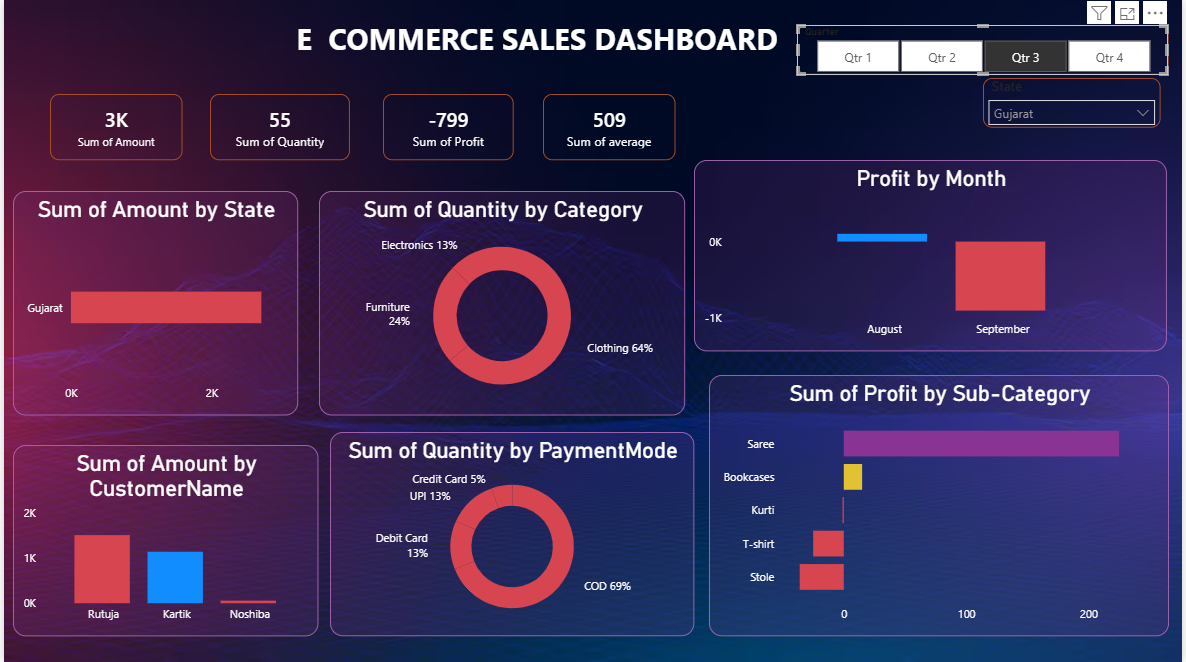

The dashboard page shown, as its layout file describes it:
{"tool":"powerbi","page":{"name":"Page 1","canvas":[1280,720],"ordinal":0},"visuals":[{"type":"textbox","box":[313.2,14.6,604,56.4],"z":0},{"type":"columnChart","title":"Profit by Month","fields":{"Category":["Orders.Order Date.Variation.Date Hierarchy.Month"],"Y":["Sum(Details.Profit)"]},"box":[750,174,514,208],"z":1000},{"type":"barChart","fields":{"Y":["Sum(Details.Profit)"],"Category":["Details.Sub-Category"]},"box":[766,408,500,284],"z":2000},{"type":"donutChart","fields":{"Y":["Sum(Details.Quantity)"],"Category":["Details.Category"]},"box":[342,208,398,244],"z":3000},{"type":"donutChart","fields":{"Y":["Sum(Details.Quantity)"],"Category":["Details.PaymentMode"]},"box":[354,470,396,222],"z":4000},{"type":"cardVisual","fields":{"Data":["Sum(Details.Amount)"]},"box":[50,102,144,72],"z":5000},{"type":"cardVisual","fields":{"Data":["Sum(Details.average)"]},"box":[586,102,144,72],"z":6000},{"type":"cardVisual","fields":{"Data":["Sum(Details.Profit)"]},"box":[412,102,142,72],"z":7000},{"type":"cardVisual","fields":{"Data":["Sum(Details.Quantity)"]},"box":[224,102,152,72],"z":8000},{"type":"barChart","fields":{"Y":["Sum(Details.Amount)"],"Category":["Orders.State"]},"box":[10,208,310,244],"z":9000},{"type":"columnChart","fields":{"Category":["Orders.CustomerName"],"Y":["Sum(Details.Amount)"]},"box":[10,484,332,208],"z":10000},{"type":"slicer","fields":{"Values":["Orders.Order Date.Variation.Date Hierarchy.Quarter"]},"box":[861.4,27.1,404.3,54.3],"z":11000},{"type":"slicer","fields":{"Values":["Orders.State"]},"box":[1064.3,84.3,192.9,54.3],"z":12000}]}

Visuals, with their boxes in screenshot pixels (x1, y1, x2, y2), scaled from the page's 1280x720 canvas onto the 1186x662 screenshot:
textbox: {"left": 290, "top": 13, "right": 850, "bottom": 65}
"Profit by Month" columnChart: {"left": 695, "top": 160, "right": 1171, "bottom": 351}
barChart - Sum(Details.Profit) x Details.Sub-Category: {"left": 710, "top": 375, "right": 1173, "bottom": 636}
donutChart - Sum(Details.Quantity) x Details.Category: {"left": 317, "top": 191, "right": 686, "bottom": 416}
donutChart - Sum(Details.Quantity) x Details.PaymentMode: {"left": 328, "top": 432, "right": 695, "bottom": 636}
cardVisual - Sum(Details.Amount): {"left": 46, "top": 94, "right": 180, "bottom": 160}
cardVisual - Sum(Details.average): {"left": 543, "top": 94, "right": 676, "bottom": 160}
cardVisual - Sum(Details.Profit): {"left": 382, "top": 94, "right": 513, "bottom": 160}
cardVisual - Sum(Details.Quantity): {"left": 208, "top": 94, "right": 348, "bottom": 160}
barChart - Sum(Details.Amount) x Orders.State: {"left": 9, "top": 191, "right": 296, "bottom": 416}
columnChart - Orders.CustomerName x Sum(Details.Amount): {"left": 9, "top": 445, "right": 317, "bottom": 636}
slicer - Orders.Order Date.Variation.Date Hierarchy.Quarter: {"left": 798, "top": 25, "right": 1173, "bottom": 75}
slicer - Orders.State: {"left": 986, "top": 78, "right": 1165, "bottom": 127}
